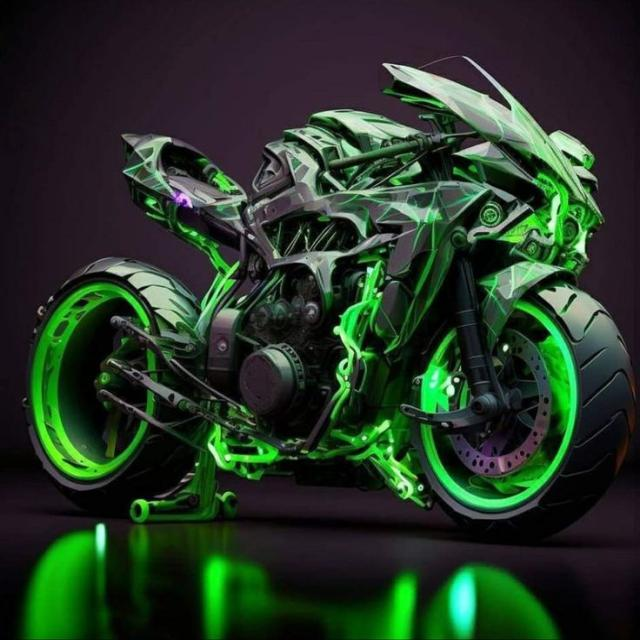MOTORCYCLE: (27, 90, 640, 533)
